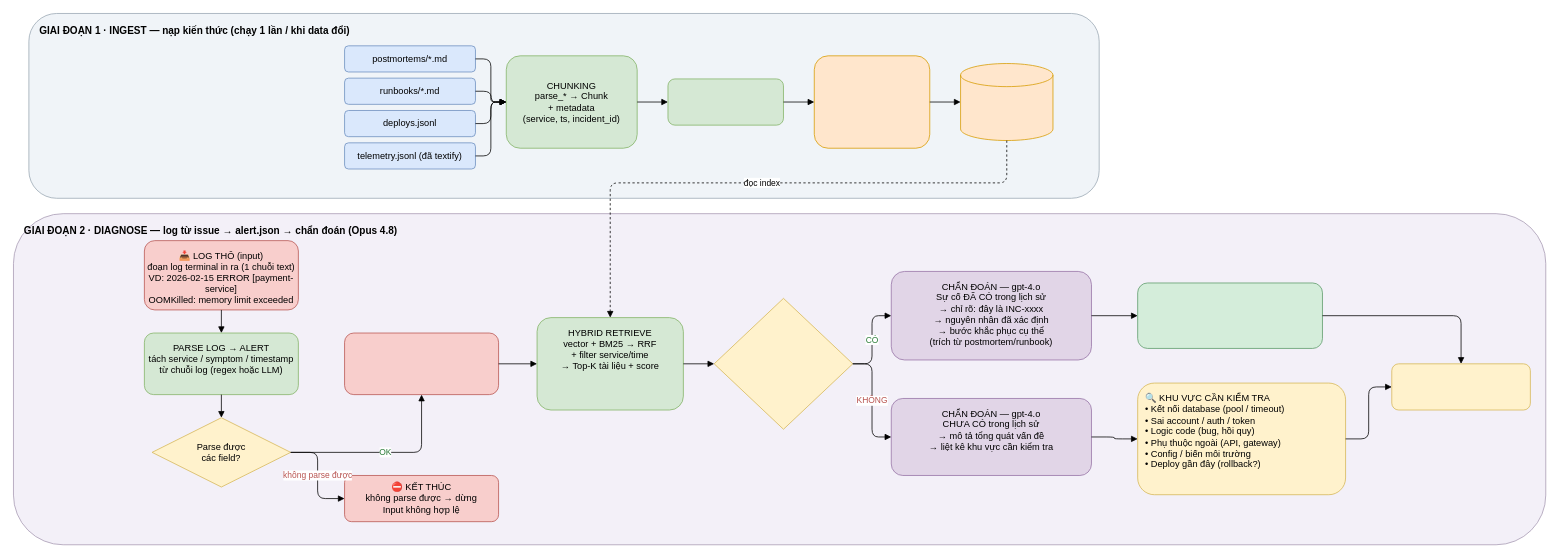
The diagram is 1559 pixels wide and 558 high, and some of its shapes have lost their labels. The shapes that lost their labels are listed below. From the top down, each one's centre as x and y in pixels, then its label:
At [725,101]: "EMBEDDING text → vector".
At [872,101]: "VECTOR STORE FAISS (ngữ nghĩa) + BM25 (từ khóa)".
At [1006,102]: "index/ faiss + meta".
At [1229,315]: "✅ KẾT LUẬN CỤ THỂ nguyên nhân + cách khắc phục + trích dẫn nguồn".
At [421,363]: "⚠️ alert.json • service • symptom • timestamp".
At [783,363]: "Có incident KHỚP trong data? (score ≥ ngưỡng / postmortem cùng triệu chứng)".
At [1460,386]: "👤 Dev duyệt → xử lý".
